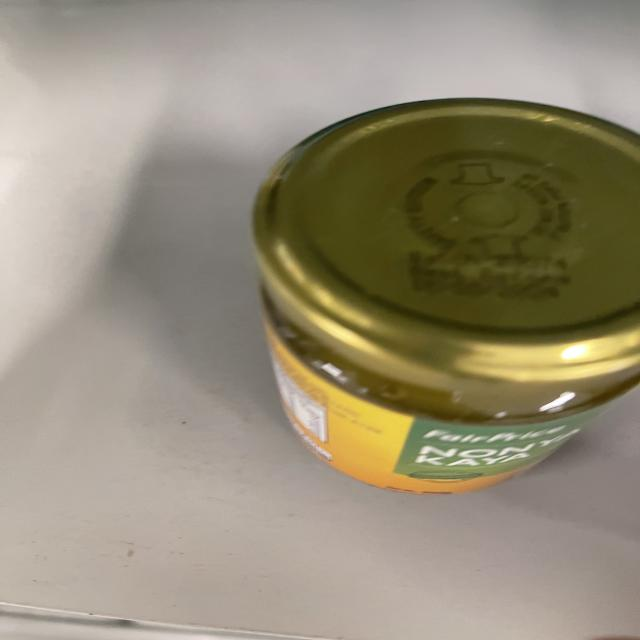object_name: (254, 102, 640, 504)
